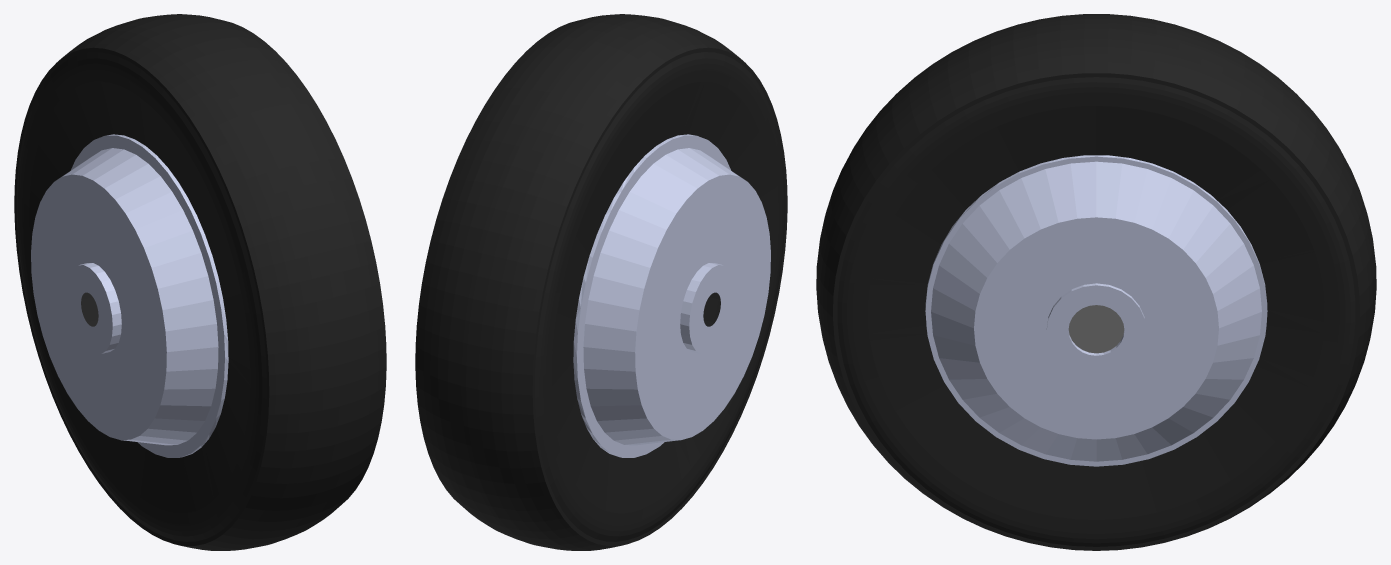
Rendered from front_wheel.dae.
3 views of the same model, side by side, from view 1: azimuth 30°, elevation 25°; view 2: azimuth 150°, elevation 25°; view 3: azimuth 270°, elevation 25° (orthographic). The views are drawn at different scales.
Visible parts, largest first — view 1: skpE1D3 (×5); view 2: skpE1D3 (×5); view 3: skpE1D3 (×6).
Boxes of the visible parts, x1,y1,x2,y2 form: skpE1D3 (×5): [14, 14, 386, 550]; skpE1D3 (×5): [415, 14, 787, 550]; skpE1D3 (×6): [816, 14, 1376, 550].
Size of the model in its own units: 3.45 by 7.87 by 7.87.
